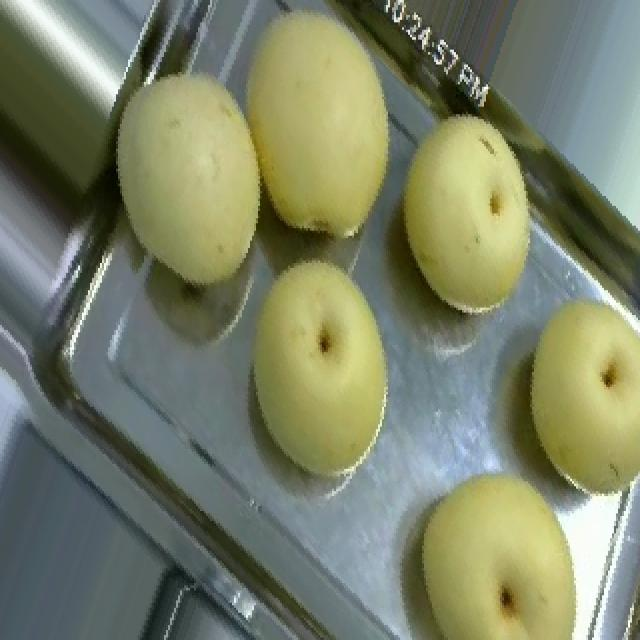Fruit: (74, 37, 286, 310), (208, 0, 426, 260), (366, 82, 566, 335), (222, 243, 410, 494), (394, 446, 604, 640), (498, 273, 640, 518), (0, 0, 120, 268)
